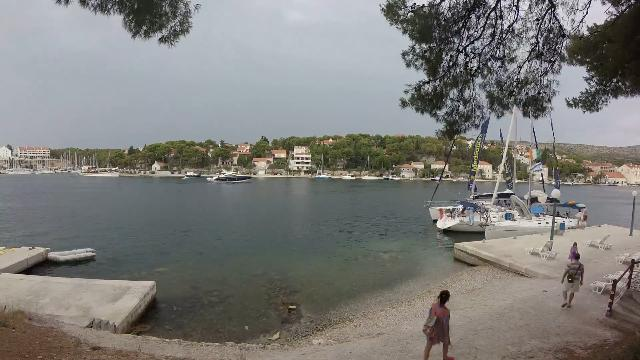speedboat: (200, 164, 258, 186)
